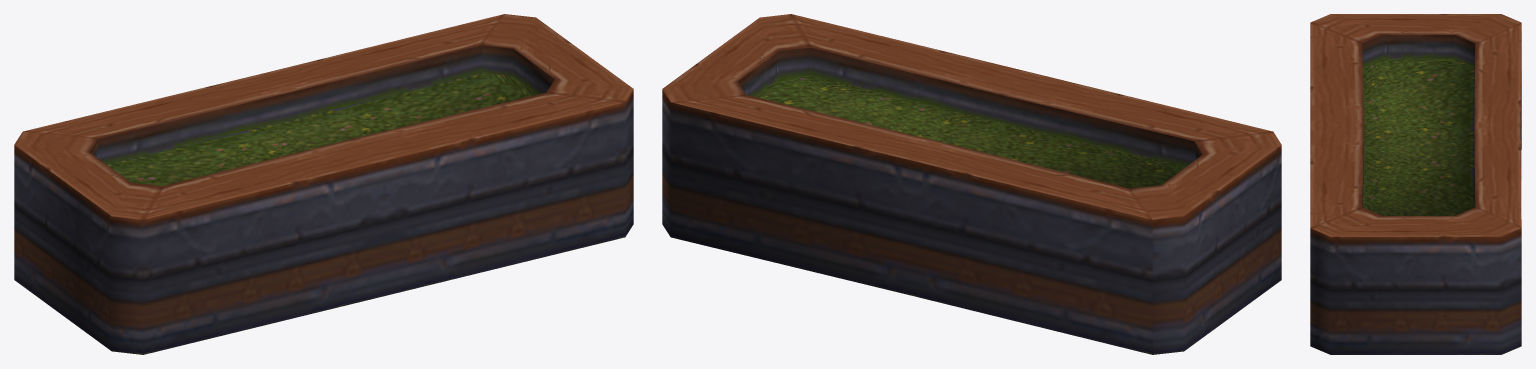
3 views of the same model, side by side, from view 1: azimuth 30°, elevation 25°; view 2: azimuth 150°, elevation 25°; view 3: azimuth 270°, elevation 25° (orthographic). The views are drawn at different scales.
Parts seen in each view (by area): view 1: gk_wj022_02; view 2: gk_wj022_02; view 3: gk_wj022_02.
Boxes of the visible parts, x1,y1,x2,y2 form: gk_wj022_02: (14, 14, 633, 354); gk_wj022_02: (662, 14, 1281, 354); gk_wj022_02: (1310, 14, 1521, 354).
Size of the model in its own units: 252 by 62.41 by 101.
